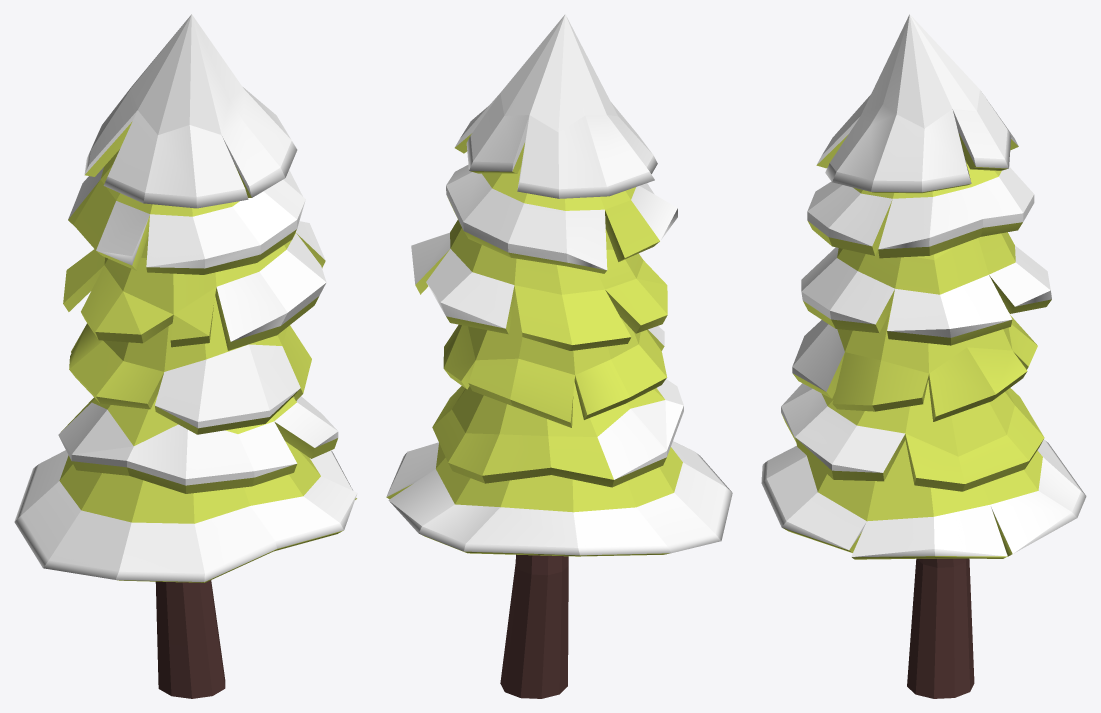
Rendered from Conifer Tree_4 Snow.fbx.
3 renders of one model, left to right at view 1: azimuth 30°, elevation 25°; view 2: azimuth 150°, elevation 25°; view 3: azimuth 270°, elevation 25°, orthographic. The views are drawn at different scales.
Parts seen in each view (by area): view 1: Conifer Tree_4 Snow; view 2: Conifer Tree_4 Snow; view 3: Conifer Tree_4 Snow.
Boxes of the visible parts, x1=… form: Conifer Tree_4 Snow: x1=14, y1=14, x2=357, y2=698; Conifer Tree_4 Snow: x1=386, y1=14, x2=732, y2=698; Conifer Tree_4 Snow: x1=761, y1=14, x2=1086, y2=698.
Bounding box in the file's own units: 1.83 × 3.89 × 1.73.
